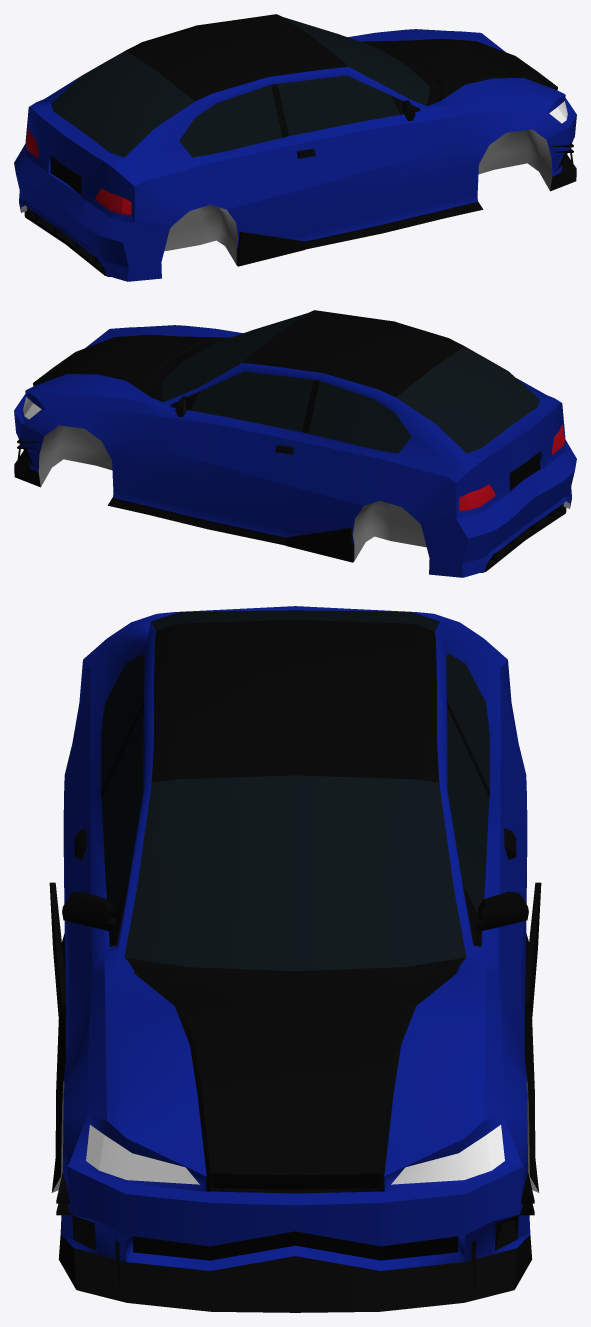
File: S64Compact_Body_3.glb
The picture shows the model from 3 angles, top to bottom: view 1: azimuth 30°, elevation 25°; view 2: azimuth 150°, elevation 25°; view 3: azimuth 270°, elevation 25°; orthographic projection. The views are drawn at different scales.
Parts seen in each view (by area): view 1: Cube; view 2: Cube; view 3: Cube.
Part boxes in pixels (left/top/right/bottom): Cube: left=14, top=14, right=576, bottom=281; Cube: left=14, top=310, right=576, bottom=577; Cube: left=49, top=606, right=541, bottom=1312.
Bounding box in the file's own units: 3.26 × 1.04 × 1.41.
